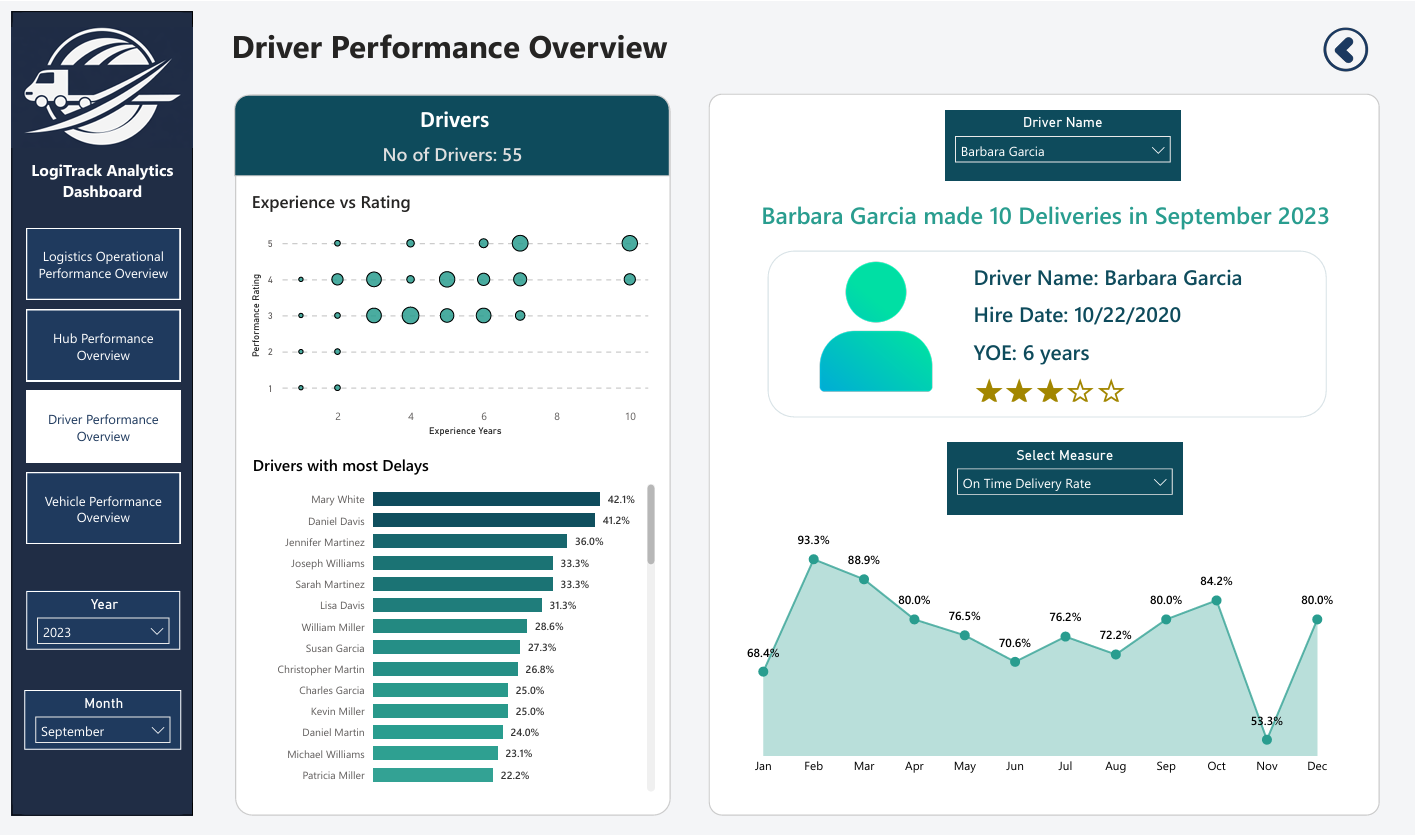

Layout of this report page (visuals, bound fields, positions):
{"tool":"powerbi","page":{"name":"Driver Performance Overview","canvas":[1450,850],"ordinal":2},"visuals":[{"type":"shape","box":[15,10,185,820],"z":0},{"type":"textbox","box":[234,18,814,70],"z":1000},{"type":"slicer","title":"Month","fields":{"Values":["Date Table.Month"]},"box":[28.3,701.7,160,61.7],"z":2000},{"type":"shape","box":[243.3,95,443.3,735],"z":3000},{"type":"shape","box":[242,95,444,83],"z":4000},{"type":"cardVisual","fields":{"Data":["Drivers.No of Drivers"]},"box":[316.7,108.3,295,91.7],"z":5000},{"type":"textbox","box":[356.2,100,285,52.5],"z":6000},{"type":"scatterChart","title":"Experience vs Rating","fields":{"Y":["Drivers.Performance Rating"],"X":["Drivers.Experience Years"],"Size":["Sum(Drivers.Experience Years)"]},"box":[255,191.7,420,256.7],"z":7000},{"type":"barChart","title":"Drivers with most Delays","fields":{"Category":["Drivers.DriverName"],"Y":["Orders.Delayed Delivery Rate"]},"box":[256,462,420,348],"z":8000},{"type":"textbox","box":[22.2,155.6,171.1,73.3],"z":9000},{"type":"image","box":[15,10,185,155],"z":10000},{"type":"shape","box":[726,94,684,736],"z":11000},{"type":"slicer","title":"Driver Name ","fields":{"Values":["Drivers.DriverName"]},"box":[967.1,111.4,240,71.4],"z":12000},{"type":"cardVisual","fields":{"Data":["Drivers.Driver Title"]},"box":[725.7,191.4,687.1,48.6],"z":13000},{"type":"cardVisual","fields":{"Data":["Drivers.Driver Name Title","Drivers.Hire Date Title","Drivers.YOE","Drivers.Star Rating"]},"box":[967.1,247.1,404.3,178.6],"z":14000},{"type":"image","box":[825.7,255.7,141.4,151.4],"z":15000},{"type":"areaChart","fields":{"Y":["Orders.On Time Delivery Rate"],"Category":["Date Table.Month Abr"]},"box":[756.3,524.1,615.3,273.5],"z":16000},{"type":"slicer","title":"Select Measure","fields":{"Values":["Select Measure.Select Measure"]},"box":[968.5,450.1,240.7,74.1],"z":17000},{"type":"shape","box":[785.7,254.3,570,170],"z":18000},{"type":"image","box":[1331.7,13.3,86.7,75],"z":19000},{"type":"pageNavigator","box":[30,231.4,157.1,321.4],"z":20000},{"type":"slicer","title":"Year","fields":{"Values":["Date Table.Year"]},"box":[30,601.4,157.1,60],"z":21000}]}

Visuals, with their boxes in screenshot pixels (x1, y1, x2, y2), scaled from the page's 1450x850 canvas onto the 1415x835 screenshot:
shape: bbox=[15, 10, 195, 815]
textbox: bbox=[228, 18, 1023, 86]
"Month" slicer: bbox=[28, 689, 184, 750]
shape: bbox=[237, 93, 670, 815]
shape: bbox=[236, 93, 669, 175]
cardVisual - Drivers.No of Drivers: bbox=[309, 106, 597, 196]
textbox: bbox=[348, 98, 626, 150]
"Experience vs Rating" scatterChart: bbox=[249, 188, 659, 440]
"Drivers with most Delays" barChart: bbox=[250, 454, 660, 796]
textbox: bbox=[22, 153, 189, 225]
image: bbox=[15, 10, 195, 162]
shape: bbox=[708, 92, 1376, 815]
"Driver Name " slicer: bbox=[944, 109, 1178, 180]
cardVisual - Drivers.Driver Title: bbox=[708, 188, 1379, 236]
cardVisual - Drivers.Driver Name Title x Drivers.Hire Date Title: bbox=[944, 243, 1338, 418]
image: bbox=[806, 251, 944, 400]
areaChart - Orders.On Time Delivery Rate x Date Table.Month Abr: bbox=[738, 515, 1338, 784]
"Select Measure" slicer: bbox=[945, 442, 1180, 515]
shape: bbox=[767, 250, 1323, 417]
image: bbox=[1300, 13, 1384, 87]
pageNavigator: bbox=[29, 227, 183, 543]
"Year" slicer: bbox=[29, 591, 183, 650]
